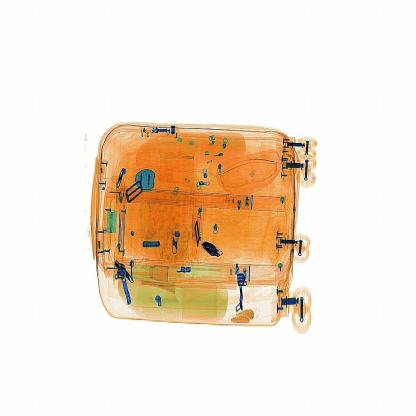scissors: (194, 228, 231, 263)
